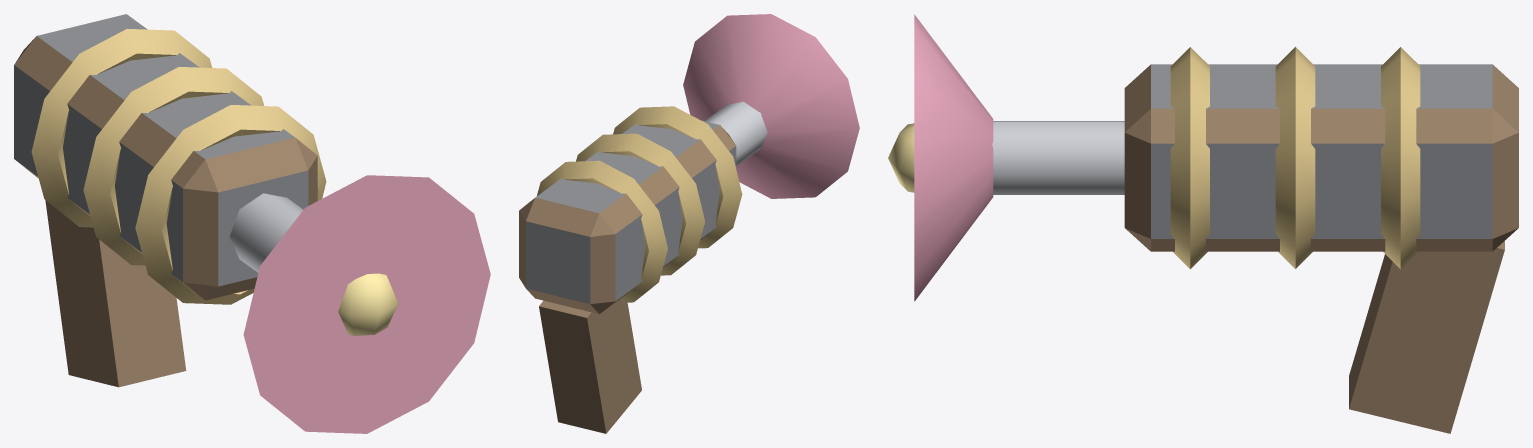
File: hd_eraser.glb
3 views of the same model, side by side, from view 1: azimuth 30°, elevation 25°; view 2: azimuth 150°, elevation 25°; view 3: azimuth 270°, elevation 25° (orthographic). The views are drawn at different scales.
Visible parts, largest first — view 1: hd_eraser; view 2: hd_eraser; view 3: hd_eraser.
Part boxes in pixels (x1=…): hd_eraser: x1=14, y1=14, x2=490, y2=433; hd_eraser: x1=519, y1=14, x2=859, y2=433; hd_eraser: x1=888, y1=14, x2=1518, y2=433.
Bounding box in the file's own units: 0.22 × 0.3276 × 0.48.
